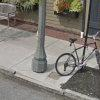Bicycle: (51, 32, 100, 83)
